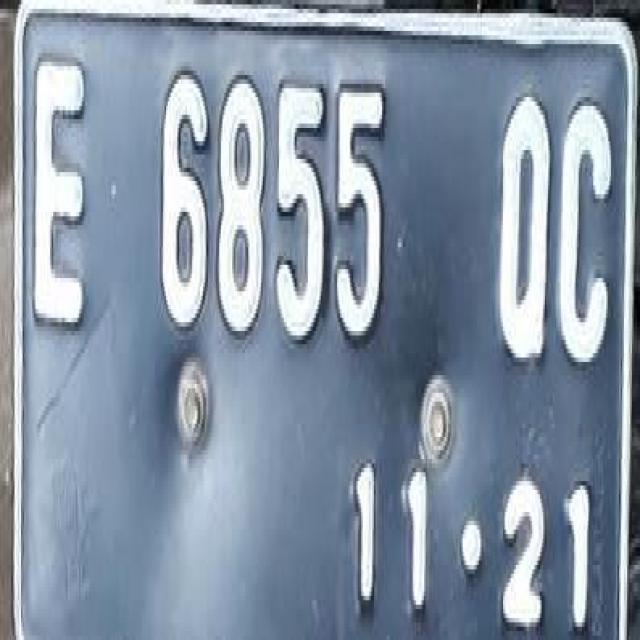5: (332, 51, 392, 387), (272, 66, 332, 358)
6: (152, 44, 212, 353)
8: (214, 64, 271, 351)
C: (554, 84, 620, 376)
E: (26, 37, 97, 373)
Q: (494, 82, 554, 404)
